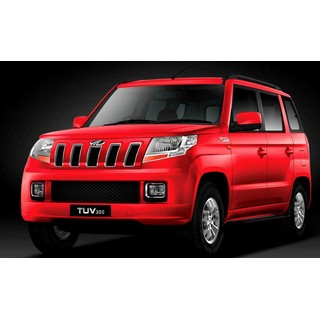car: (19, 74, 309, 253)
